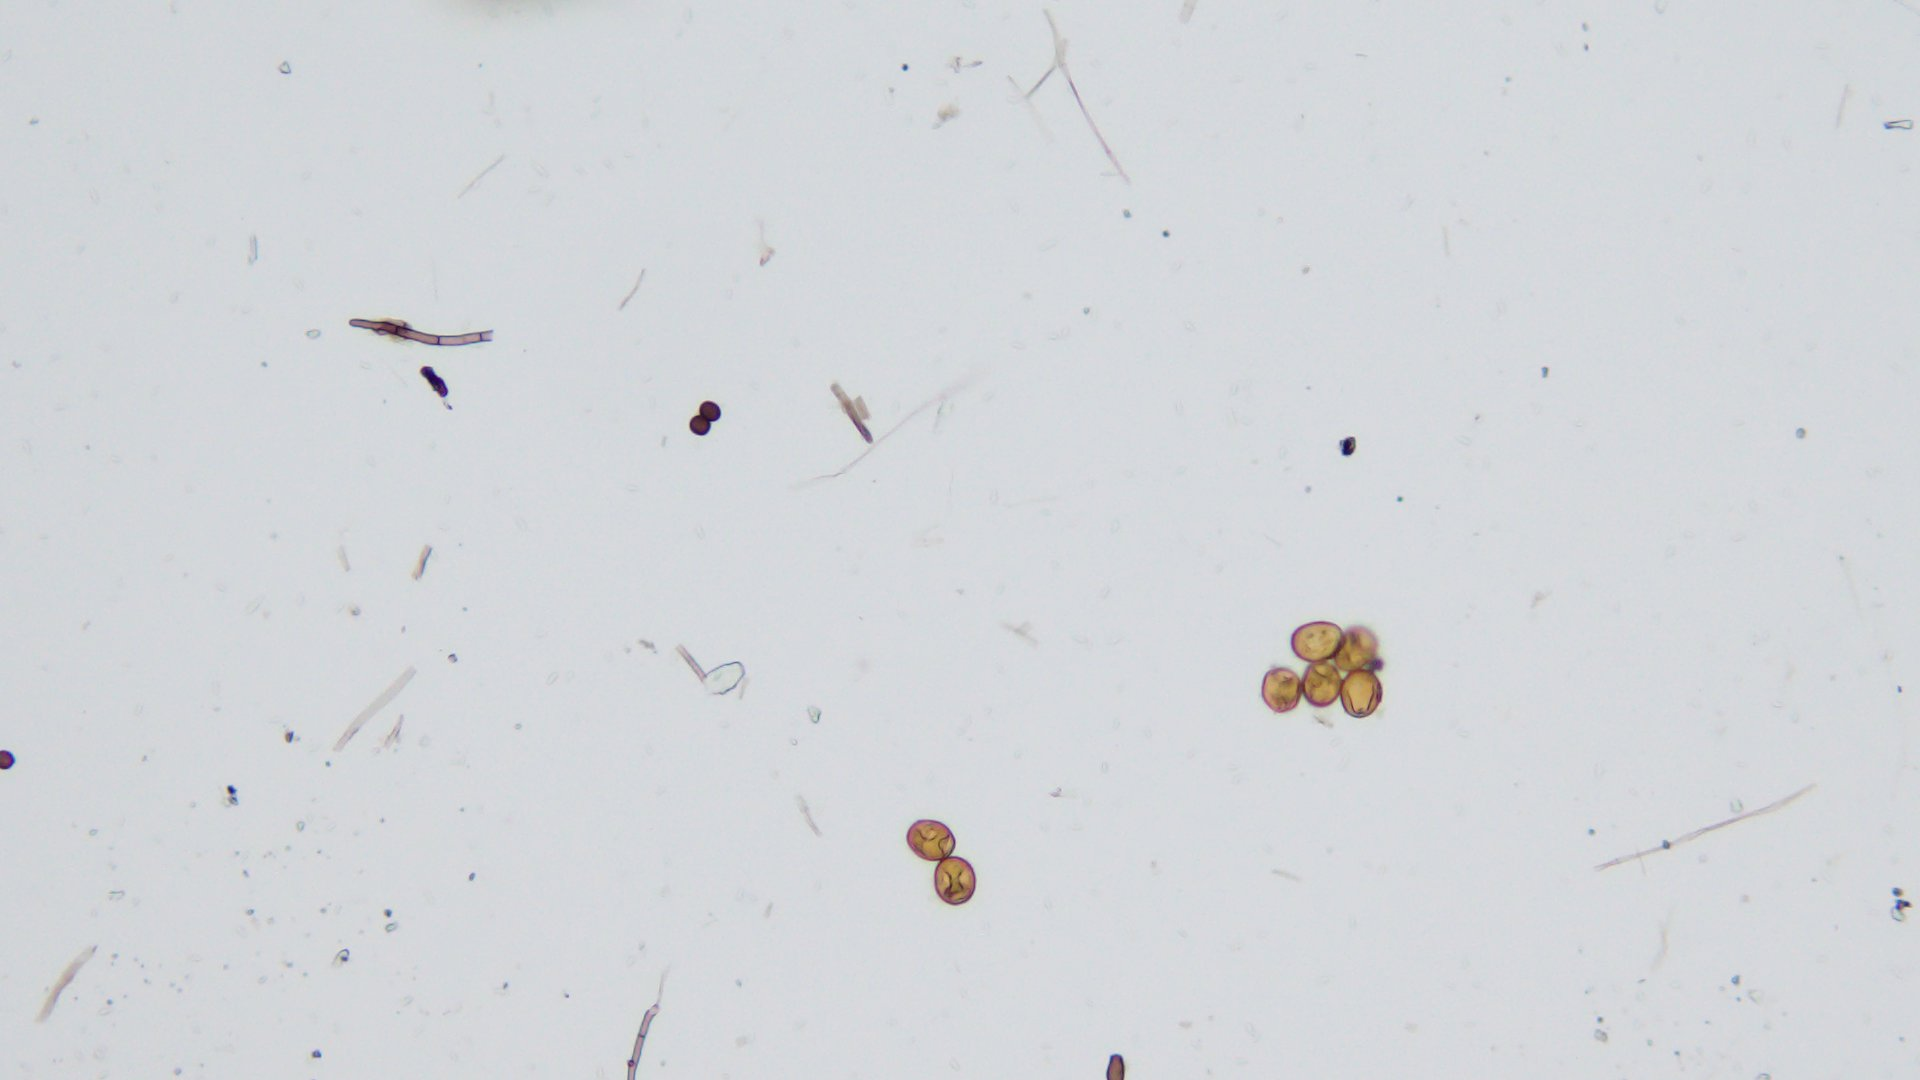shs_spore: (699, 400, 721, 419), (688, 417, 709, 436)
xb_spore: (1291, 620, 1346, 663), (906, 818, 955, 864), (931, 856, 976, 905), (1302, 659, 1344, 707), (1335, 626, 1375, 671), (1341, 673, 1381, 719), (1262, 669, 1302, 711)
